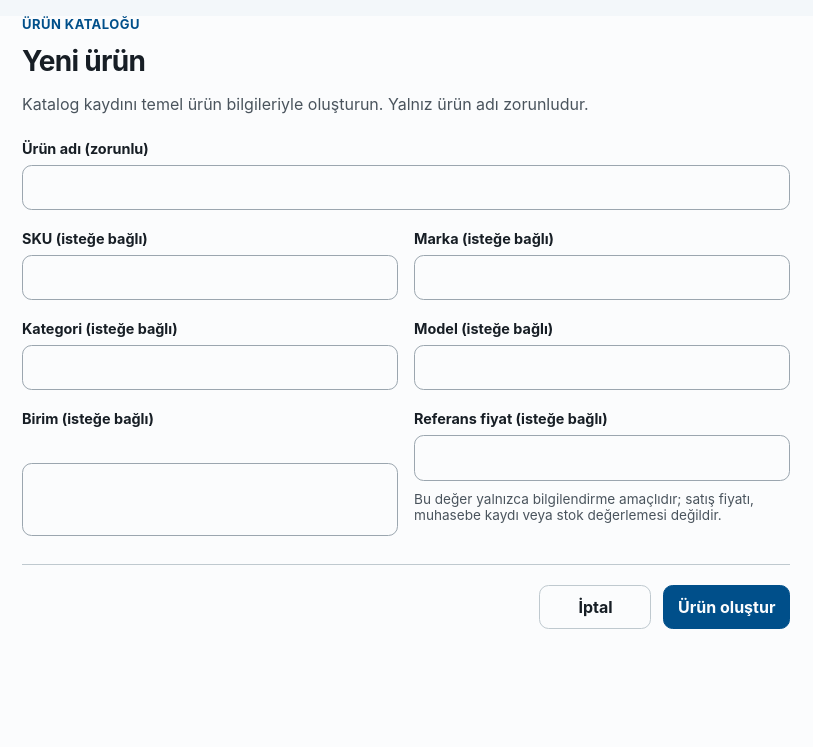
Scenario: Product form › associates a negative-price error and focuses the error summary
Type "Ürün" into the field labelled "Ürün adı (zorunlu)" at (406, 188), box [22,165,790,210]
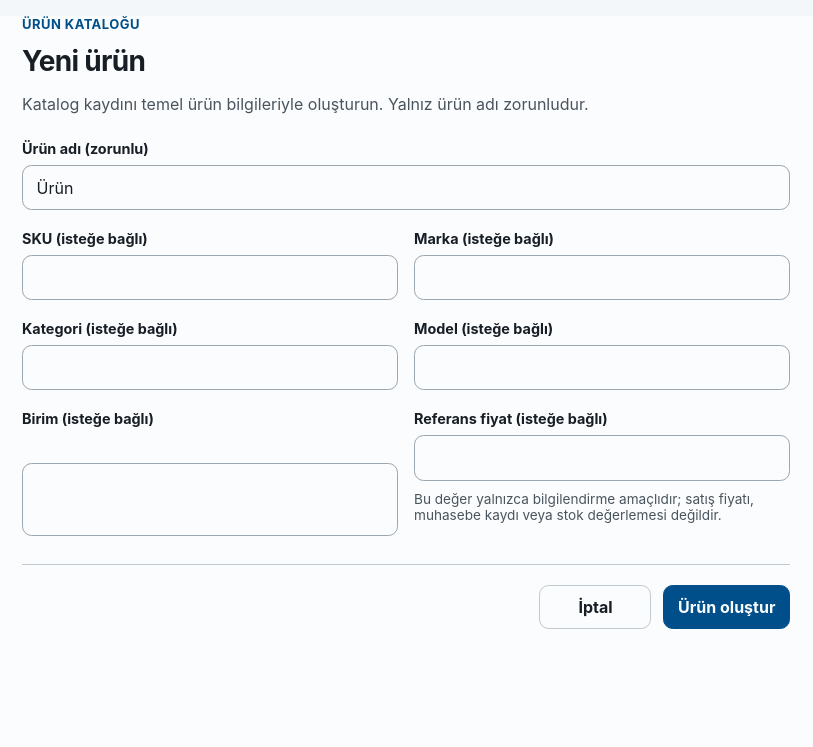
Type "-1" into the number field labelled "Referans fiyat (isteğe bağlı)" at (602, 458), box [414,436,790,480]
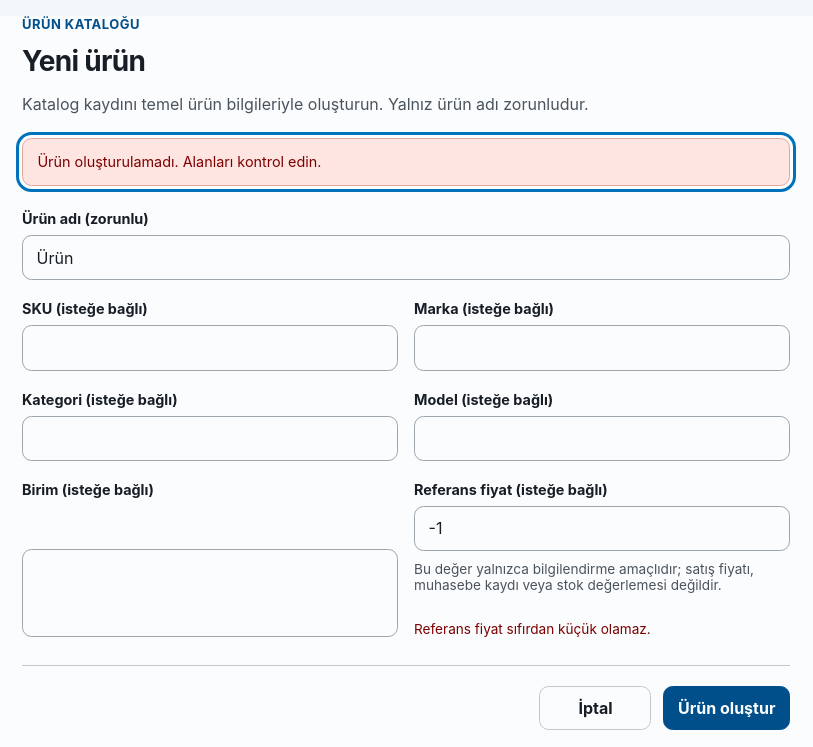
Expected: the text "Referans fiyat sıfırdan küçük olamaz." is shown, [414,621,651,637]
